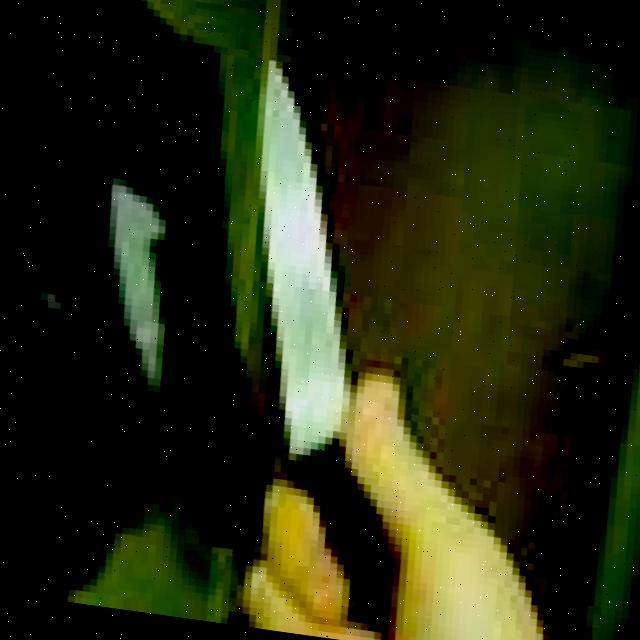knife: (180, 55, 469, 640)
